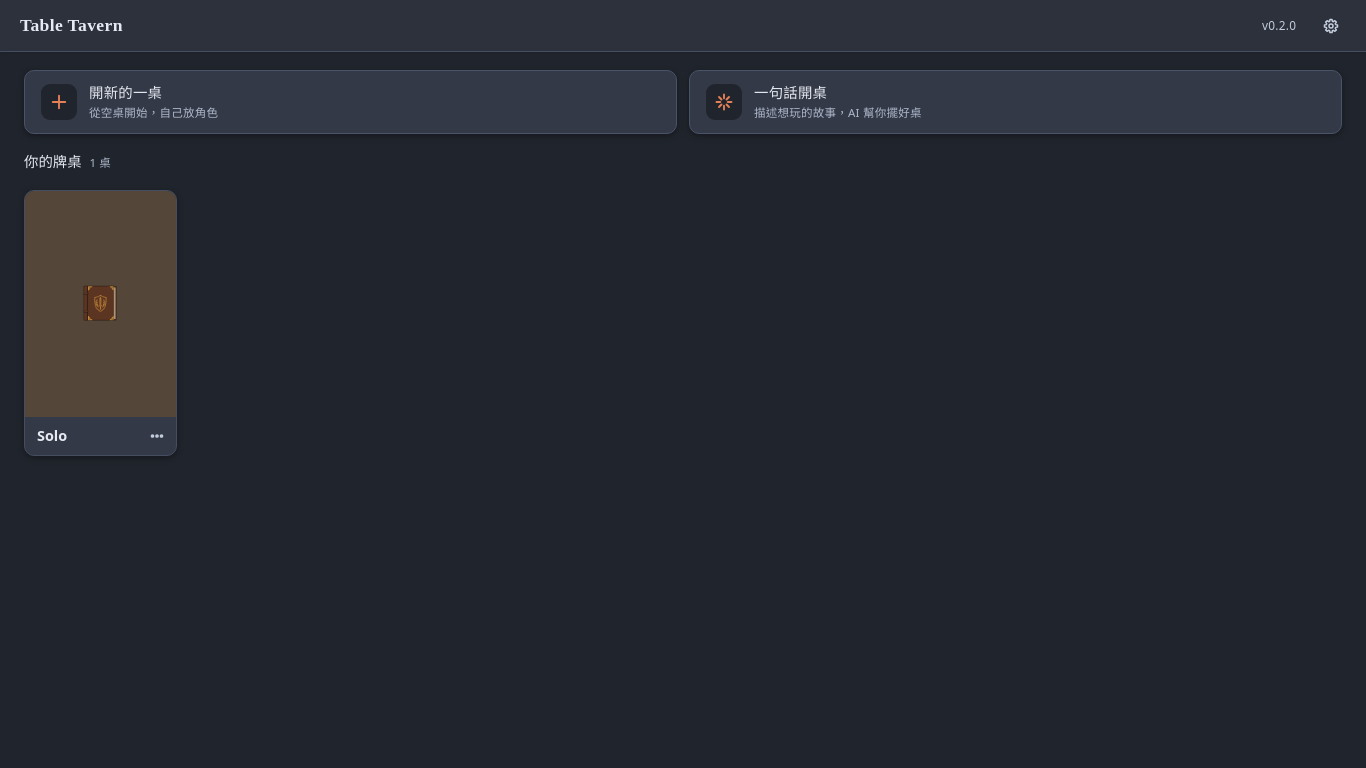
Test case: lobby and table navigation › uses the narrow rail for 0–1 character cards and the wide rail from 2
This screenshot has width=1366, height=768.
Click the button named "進入 Solo" at (100, 304), box [25, 191, 176, 417]
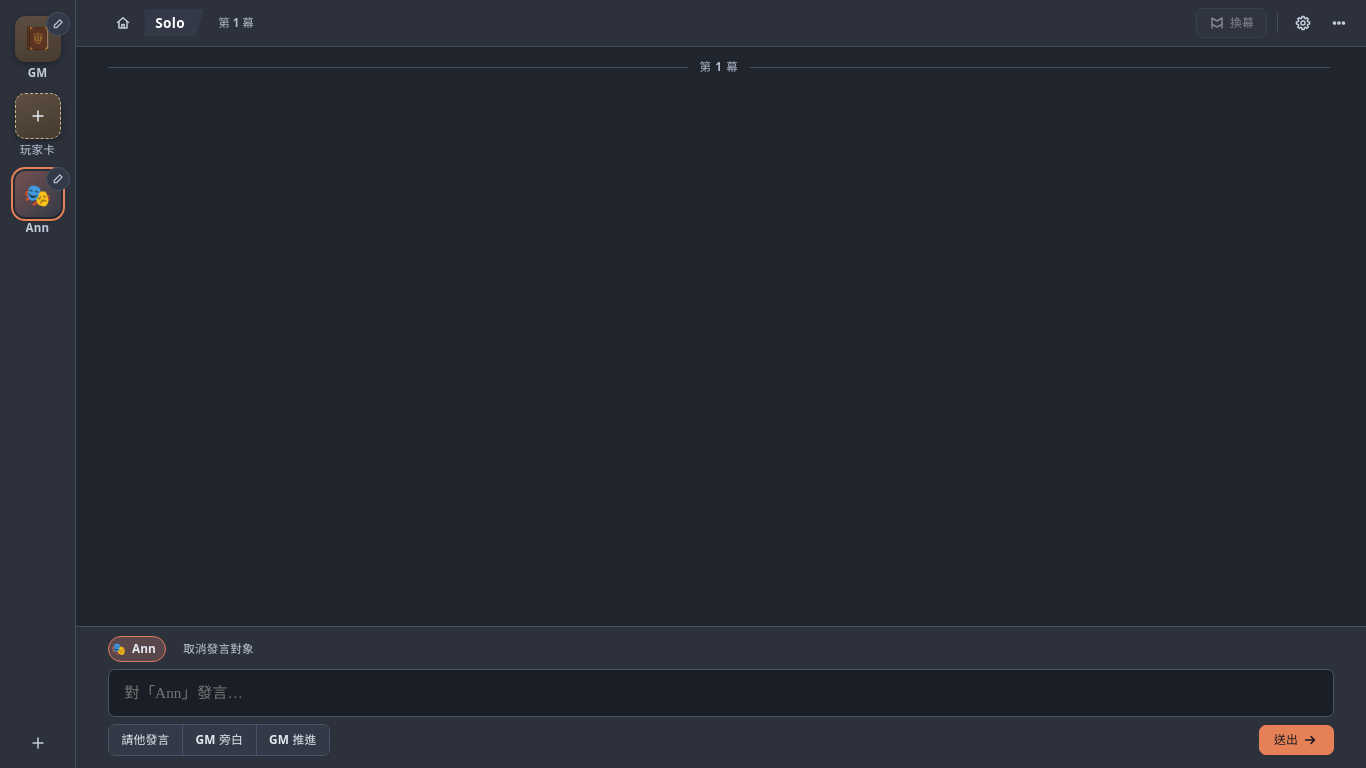
Result: the element with class "sidebar-narrow" is shown at [0, 0, 76, 767]
Click the button named "回大廳" at (123, 23), box [108, 8, 138, 38]
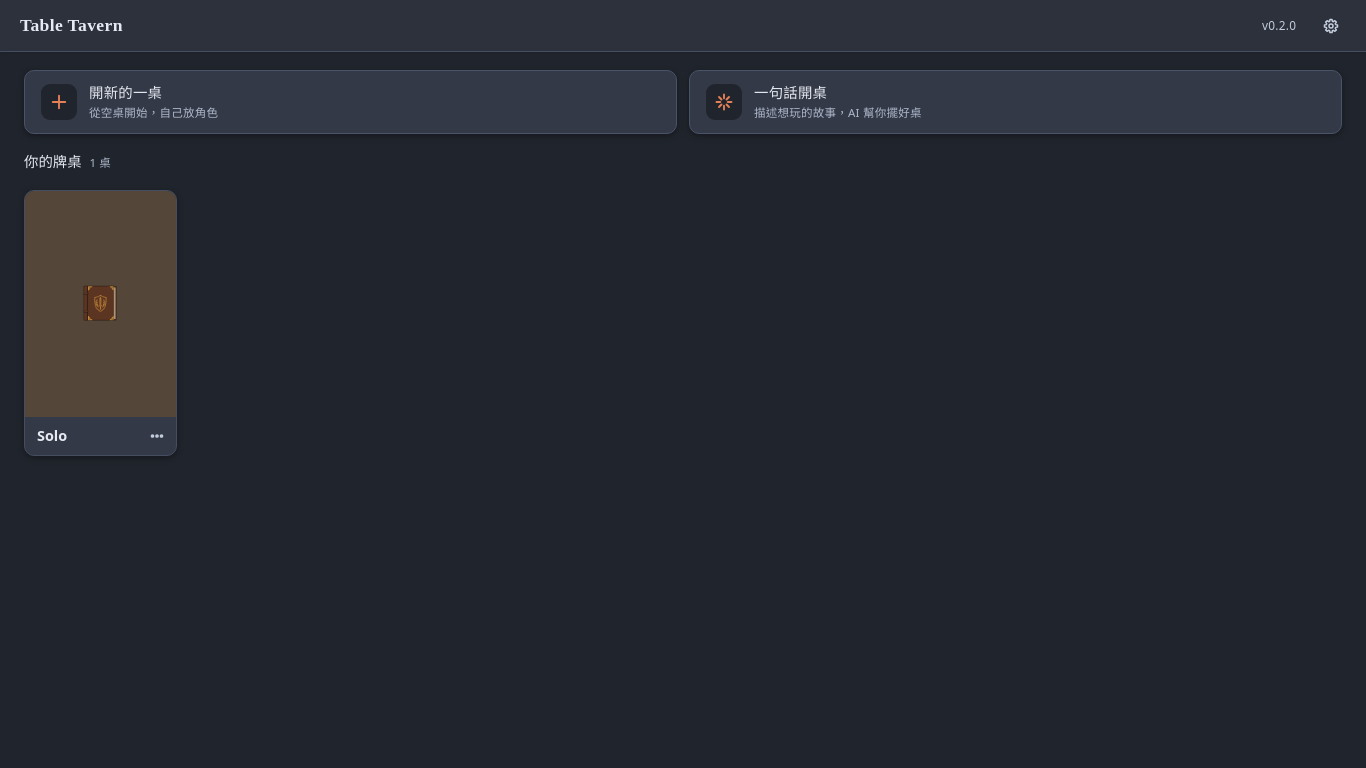
Click the button named "進入 Solo" at (100, 304), box [25, 191, 176, 417]
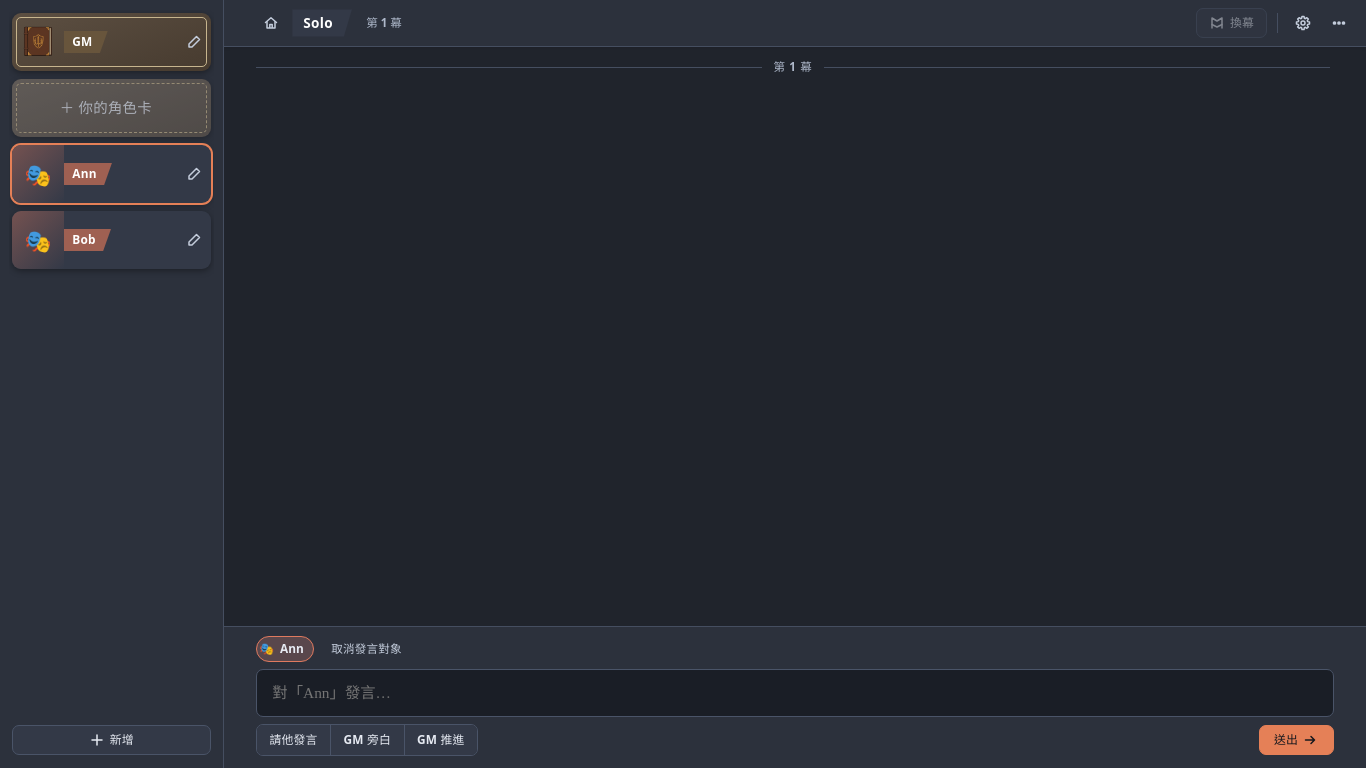
Result: the element with class "sidebar-resizer" is shown at [219, 0, 228, 767]
